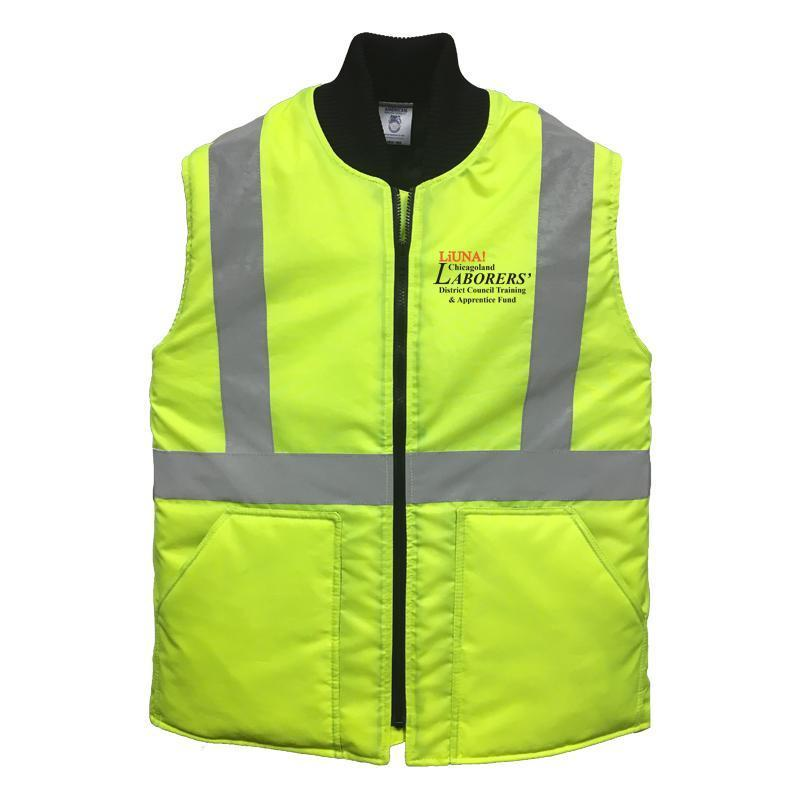vest: (152, 34, 653, 770)
